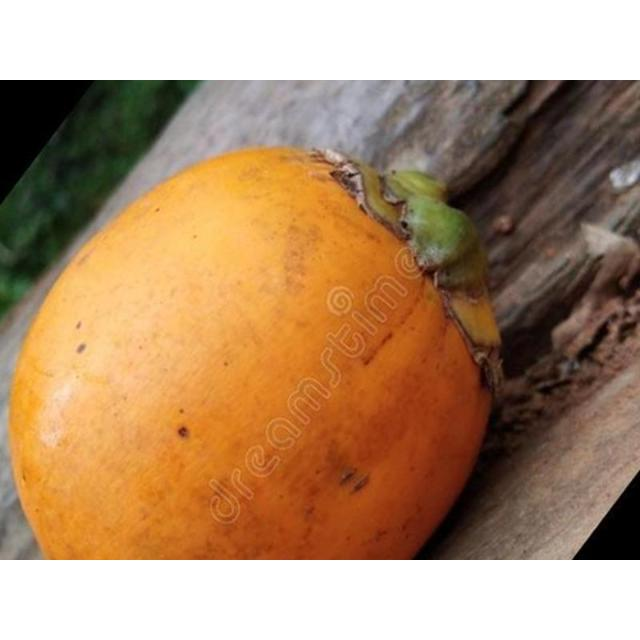good: (5, 146, 501, 559)
